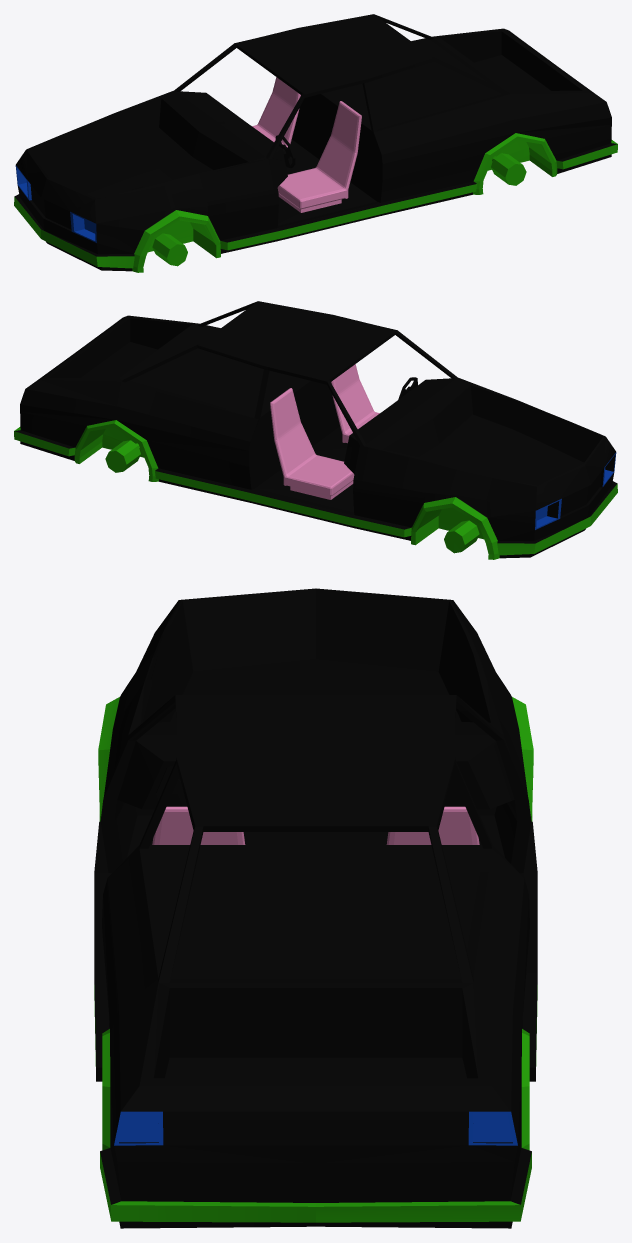
File: CarNone_BH(1).fbx
3 views of the same model, one above another, from view 1: azimuth 30°, elevation 25°; view 2: azimuth 150°, elevation 25°; view 3: azimuth 270°, elevation 25° (orthographic). The views are drawn at different scales.
Visible parts, largest first — view 1: CarNone_BH; view 2: CarNone_BH; view 3: CarNone_BH.
Boxes of the visible parts, x1=… form: CarNone_BH: x1=14, y1=14, x2=617, y2=272; CarNone_BH: x1=14, y1=301, x2=617, y2=559; CarNone_BH: x1=94, y1=588, x2=537, y2=1228.
Bounding box in the file's own units: 819 × 188 × 299.
